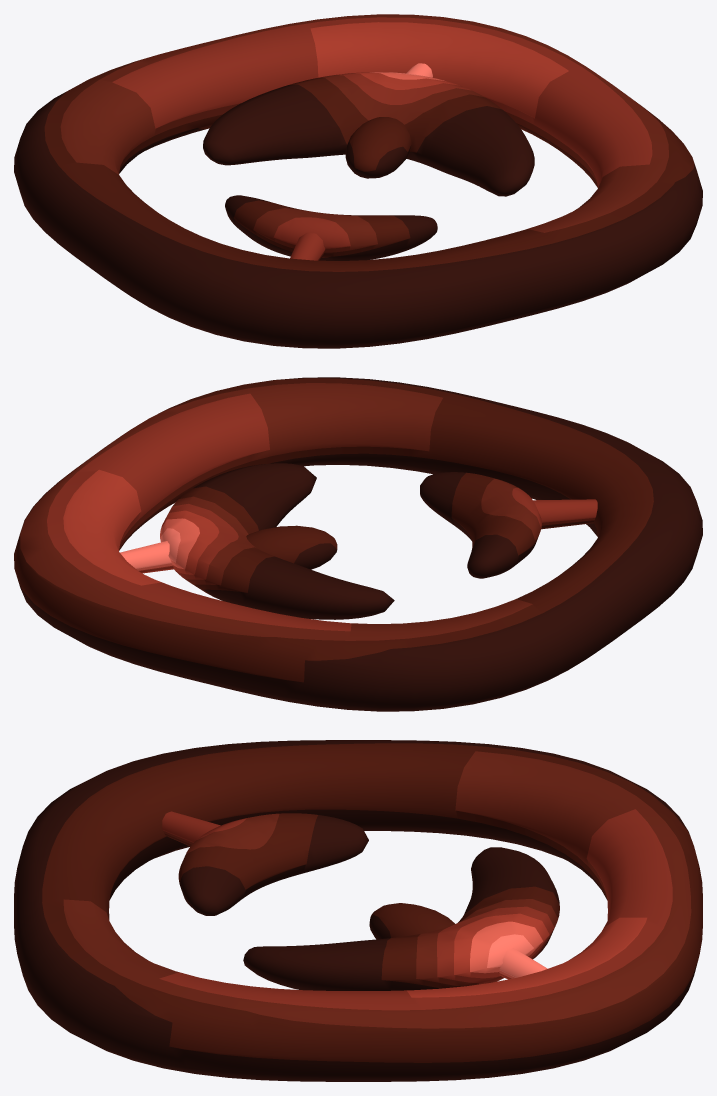
The model's file is beetle_ring_209.glb.
3 renders of one model, top to bottom at view 1: azimuth 30°, elevation 25°; view 2: azimuth 150°, elevation 25°; view 3: azimuth 270°, elevation 25°, orthographic. The views are drawn at different scales.
Parts seen in each view (by area): view 1: beetle_ring_209; view 2: beetle_ring_209; view 3: beetle_ring_209.
Part boxes in pixels (x1,y1,x2,y2): beetle_ring_209: [14, 14, 702, 348]; beetle_ring_209: [14, 377, 702, 711]; beetle_ring_209: [14, 740, 702, 1081].
Size of the model in its own units: 8.12 by 1 by 8.12.
